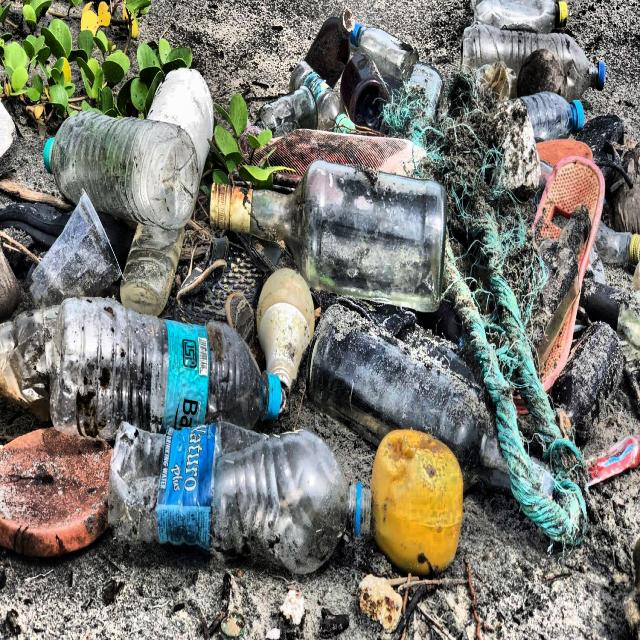plastic bottle: (108, 421, 372, 574), (49, 298, 282, 439), (48, 110, 199, 228), (463, 20, 605, 98), (522, 90, 585, 140), (472, 0, 569, 31)
